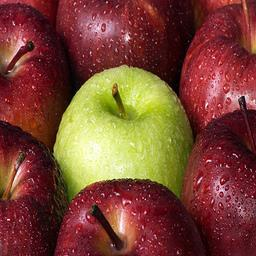apple: (52, 68, 193, 214), (57, 1, 204, 95), (54, 179, 208, 253), (178, 110, 256, 253), (181, 2, 255, 143), (1, 1, 70, 146), (1, 120, 69, 256)
